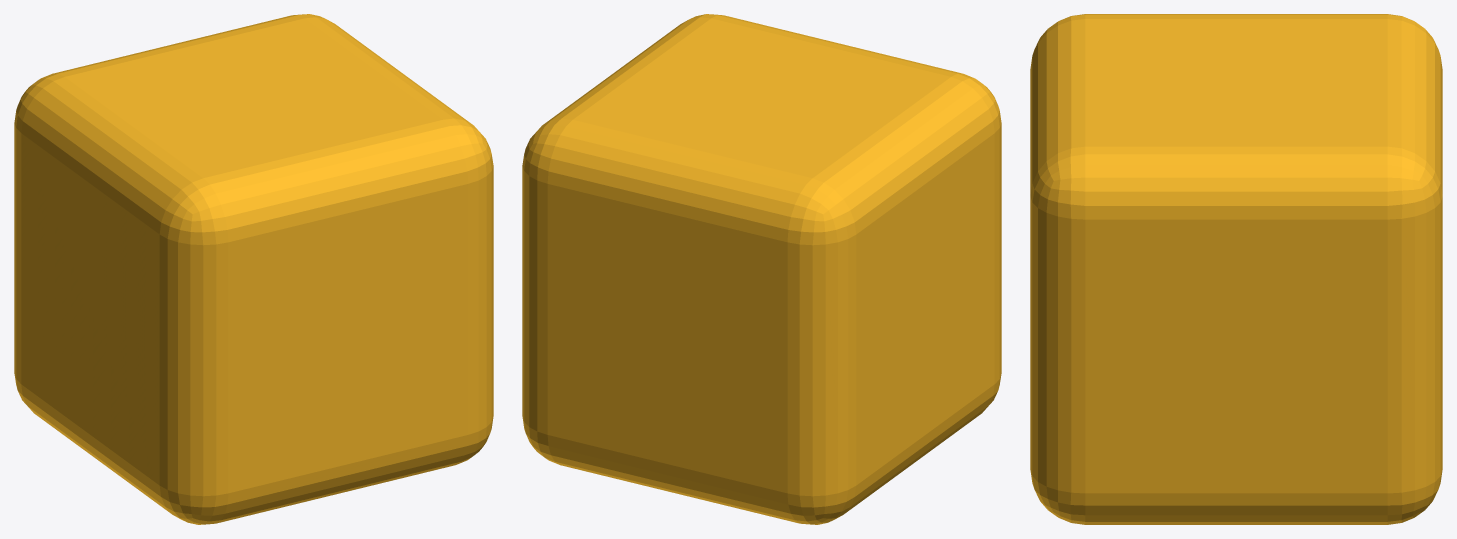
Rendered from Block_1x1.fbx.
The picture shows the model from 3 angles, left to right: view 1: azimuth 30°, elevation 25°; view 2: azimuth 150°, elevation 25°; view 3: azimuth 270°, elevation 25°; orthographic projection. The views are drawn at different scales.
Parts seen in each view (by area): view 1: Cube; view 2: Cube; view 3: Cube.
Part boxes in pixels (<box>): Cube: <box>14,14,493,524</box>; Cube: <box>522,14,1001,524</box>; Cube: <box>1030,14,1442,524</box>.
Size of the model in its own units: 0.9 by 0.9 by 0.9.
